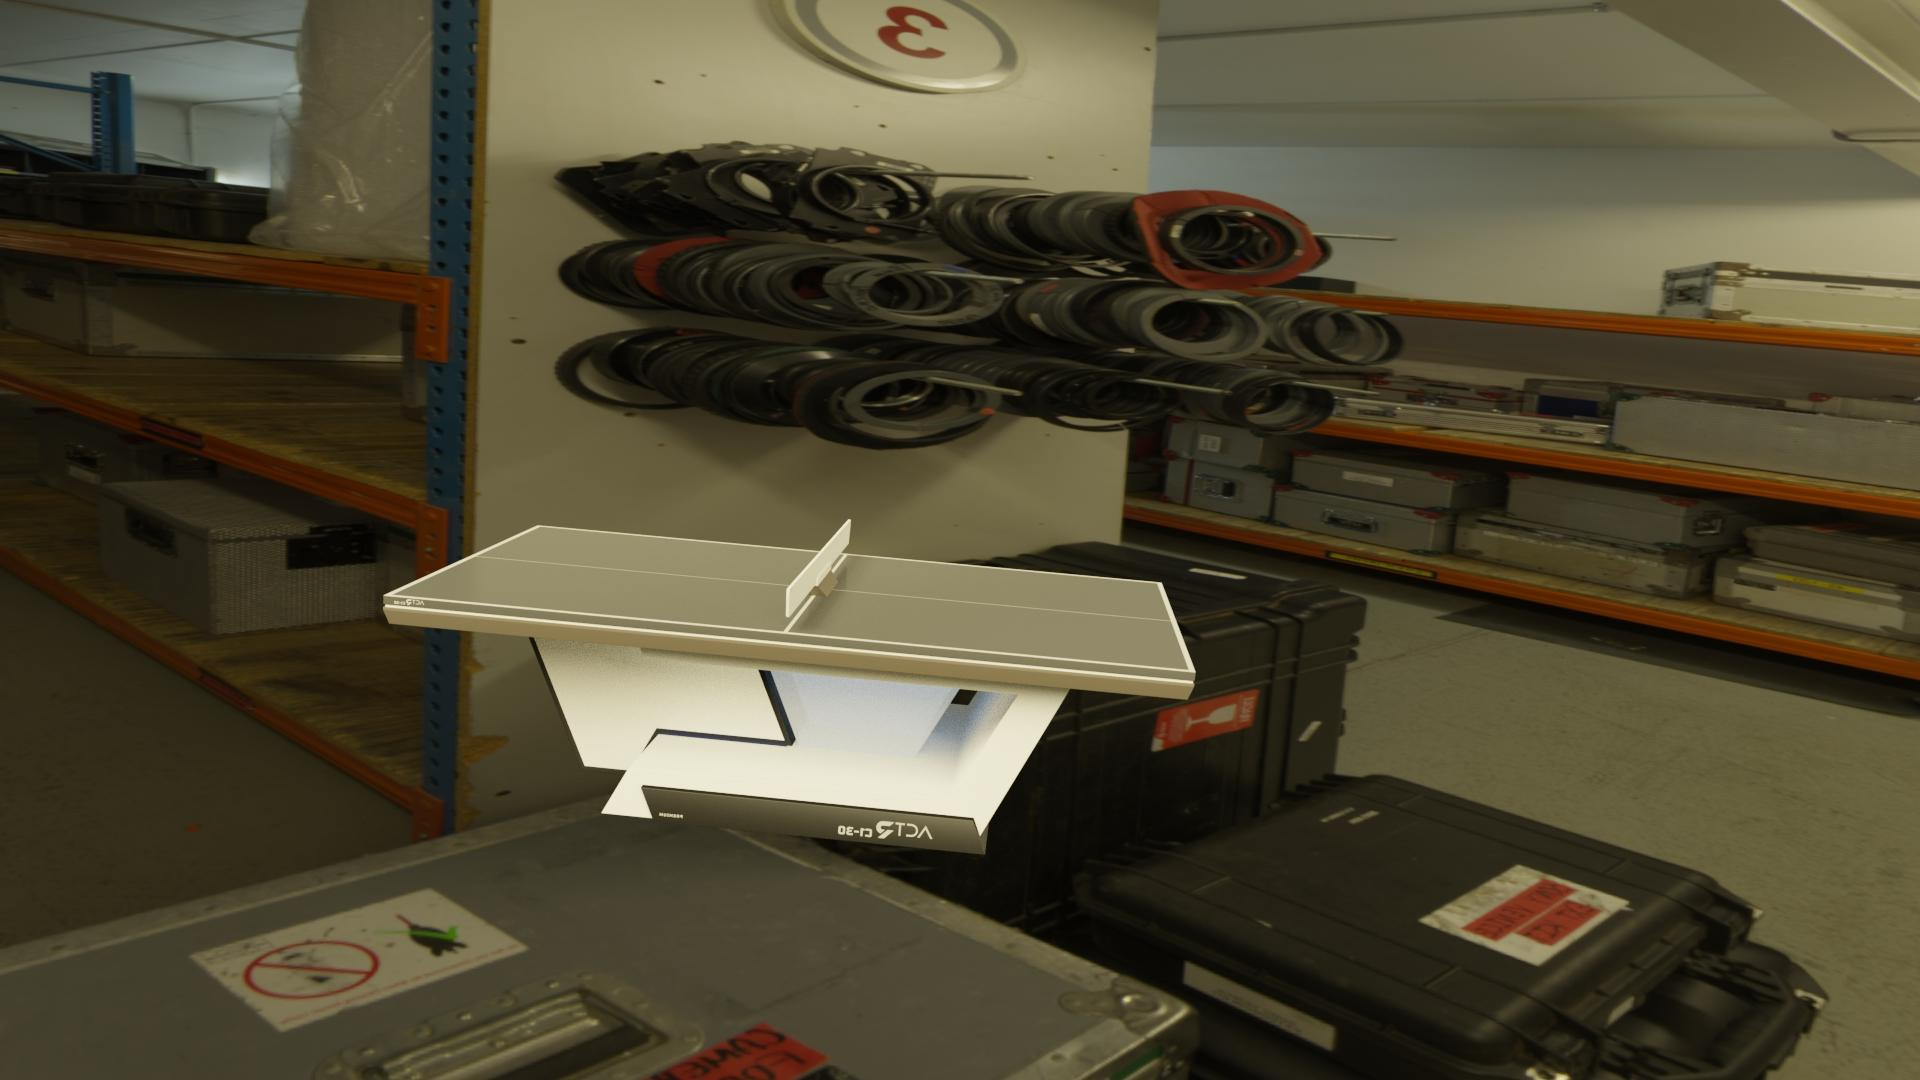table: (392, 526, 1189, 670)
